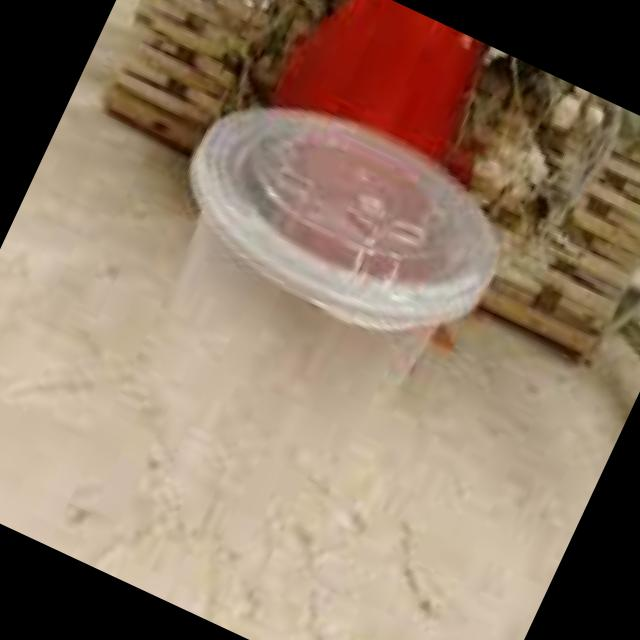GelasPlastik: (16, 51, 534, 640)
